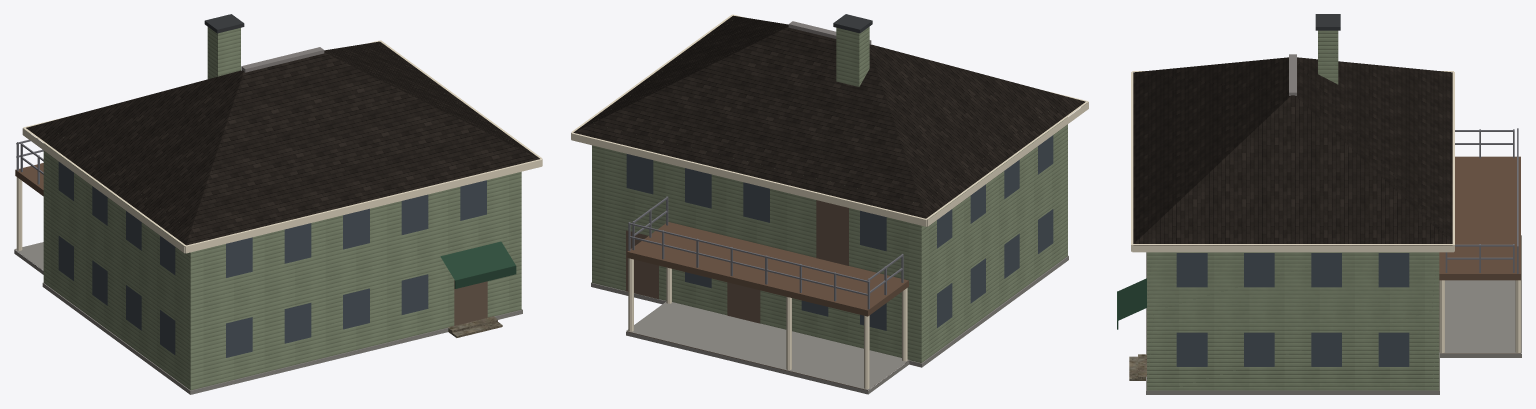
The model's file is ns-fourplex.zfix-v22.lod1.glb.
3 renders of one model, left to right at view 1: azimuth 30°, elevation 25°; view 2: azimuth 150°, elevation 25°; view 3: azimuth 270°, elevation 25°, orthographic.
Visible parts, largest first — view 1: ns-fourplex; view 2: ns-fourplex; view 3: ns-fourplex.
Boxes of the visible parts, bbox=[...] form: ns-fourplex: bbox=[14, 14, 542, 394]; ns-fourplex: bbox=[571, 14, 1088, 394]; ns-fourplex: bbox=[1117, 14, 1521, 394].
Bounding box in the file's own units: 14.08 × 10.35 × 13.85.
Materials: 4 (3 with a texture image).
